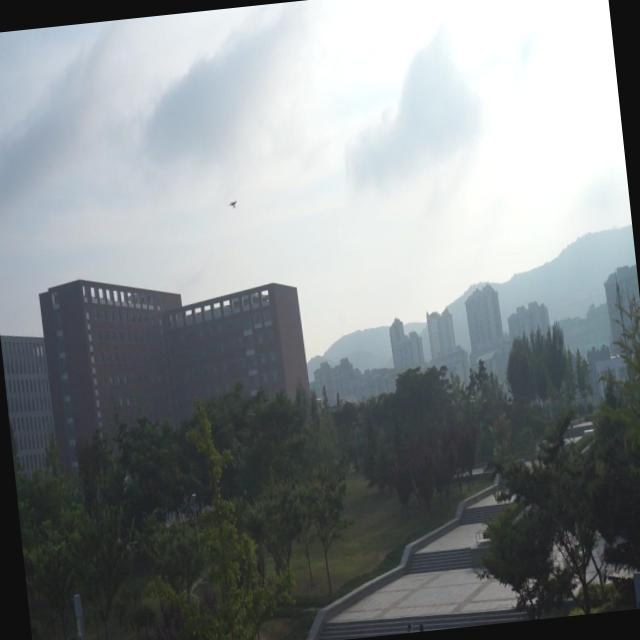drone: (228, 196, 239, 212)
